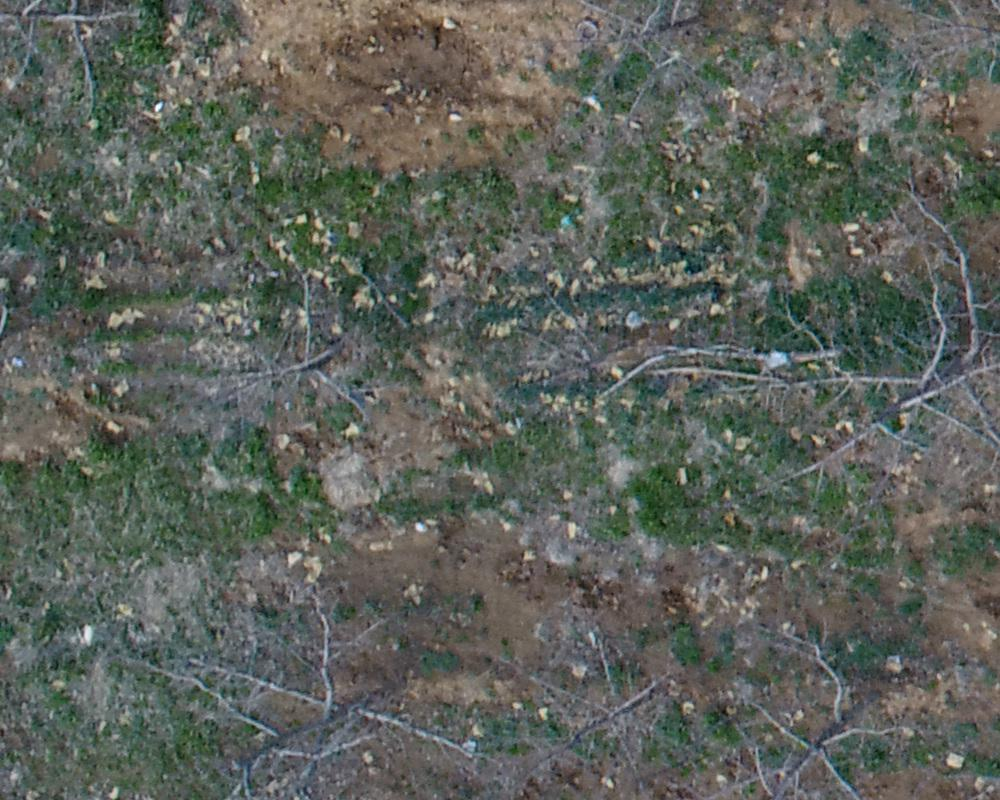apple: (743, 185, 990, 550), (124, 584, 419, 790), (675, 636, 902, 790), (493, 618, 680, 790), (203, 275, 378, 428), (541, 10, 740, 118), (10, 10, 132, 113)
